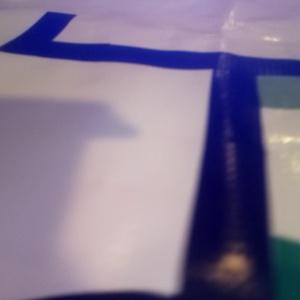bottom_right: (215, 59, 300, 109)
